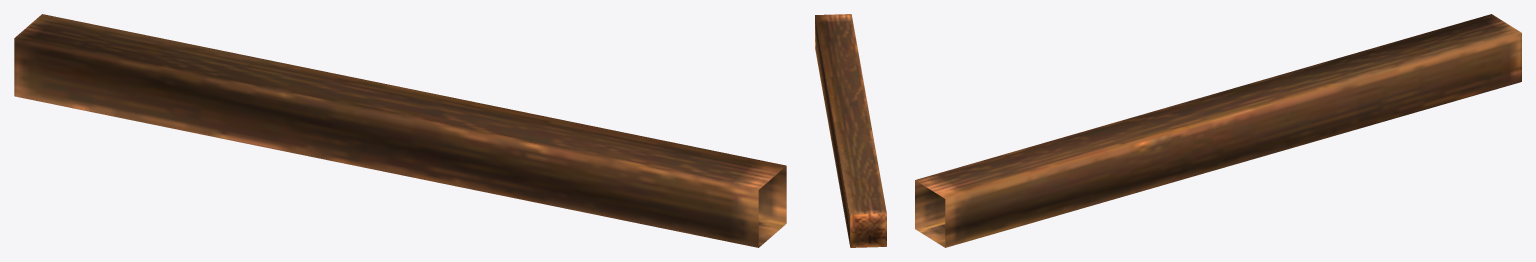
The model's file is SWORDLIGHT20_JAILBRACE04.fbx.
3 views of the same model, side by side, from view 1: azimuth 30°, elevation 25°; view 2: azimuth 150°, elevation 25°; view 3: azimuth 270°, elevation 25° (orthographic). The views are drawn at different scales.
Parts seen in each view (by area): view 1: SWORDLIGHT20_JAILBRACE04; view 2: SWORDLIGHT20_JAILBRACE04; view 3: SWORDLIGHT20_JAILBRACE04.
Part boxes in pixels (x1,y1,x2,y2): SWORDLIGHT20_JAILBRACE04: (14,14,786,247); SWORDLIGHT20_JAILBRACE04: (815,14,886,247); SWORDLIGHT20_JAILBRACE04: (915,14,1521,247).
Size of the model in its own units: 32385 by 4000 by 44906.
Materials: 1 (1 with a texture image).
